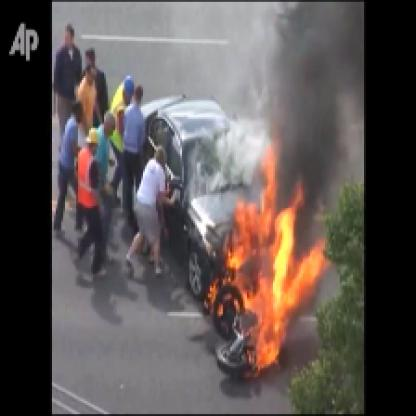Fire: (215, 143, 312, 383)
Smoke: (275, 15, 340, 200), (204, 124, 268, 184)
